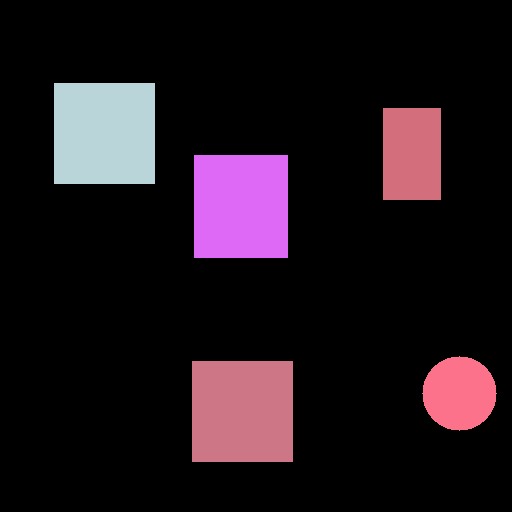circle: (422, 356, 496, 430)
rectangle: (383, 108, 440, 199)
square: (192, 361, 292, 461), (54, 83, 154, 183), (194, 155, 287, 257)
